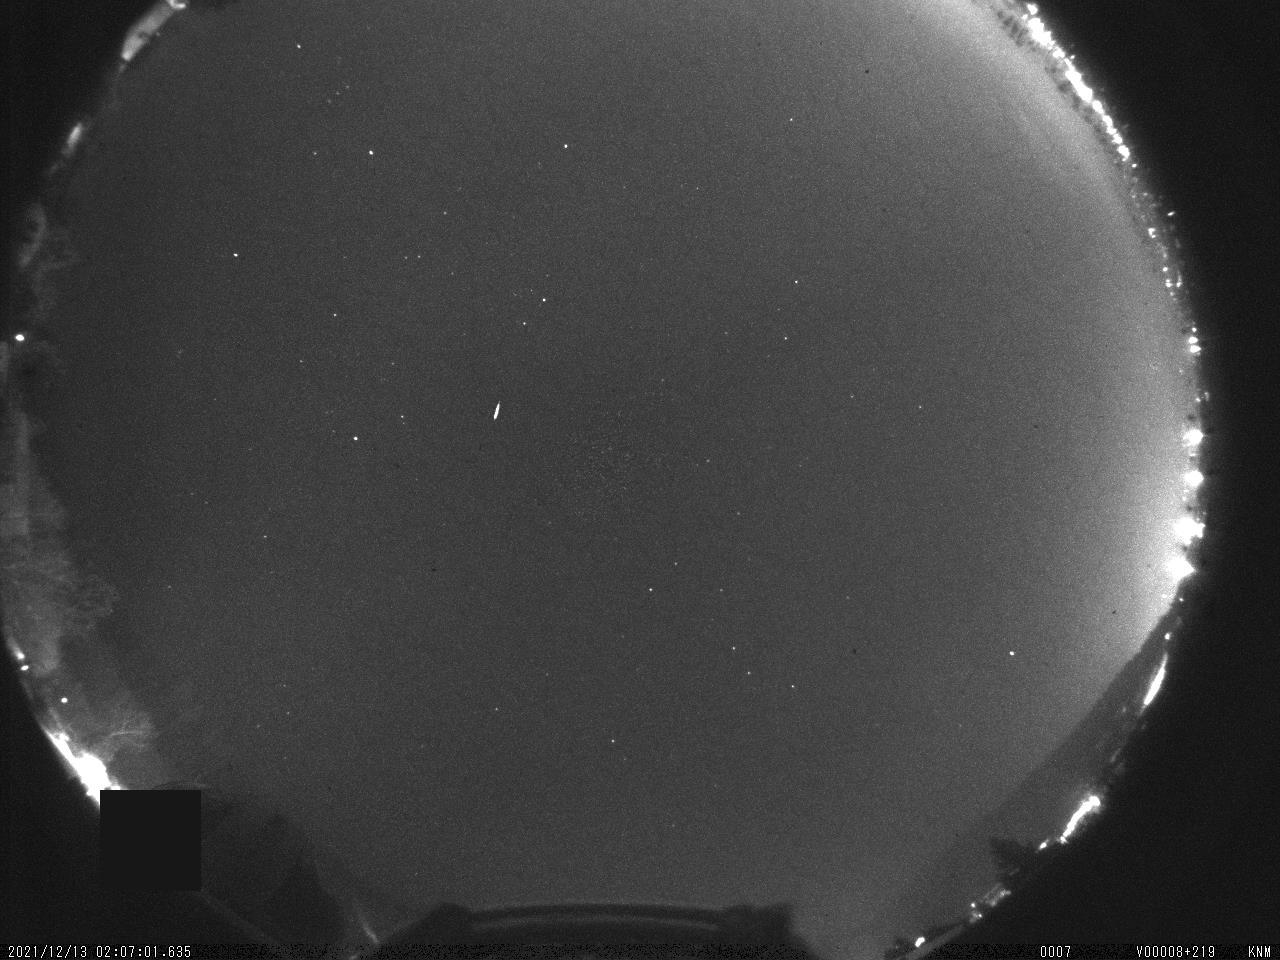meteor: (485, 393, 508, 430)
